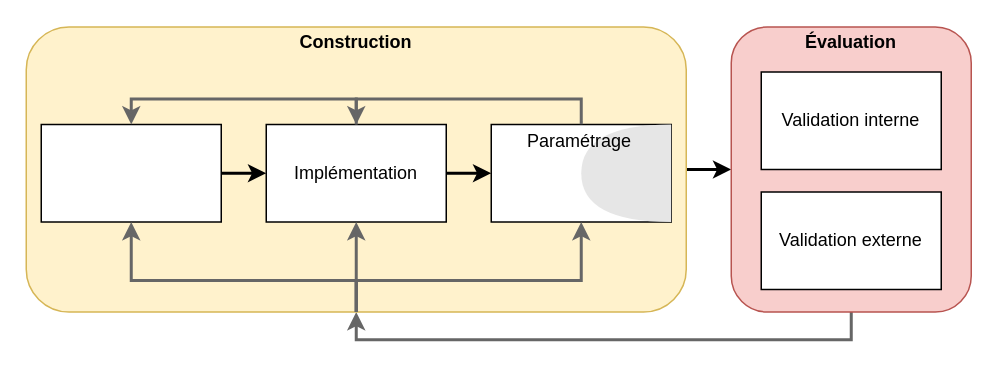
Some shapes in this 998 by 378 pixel diagram are drawn without their labels. Each missing label, with the centre of its shape:
"Calibrage" goes at pixel 625 172.
"Conception" goes at pixel 130 172.
